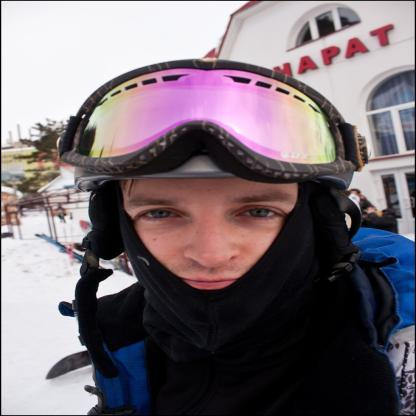Helmet: (61, 43, 386, 323)
